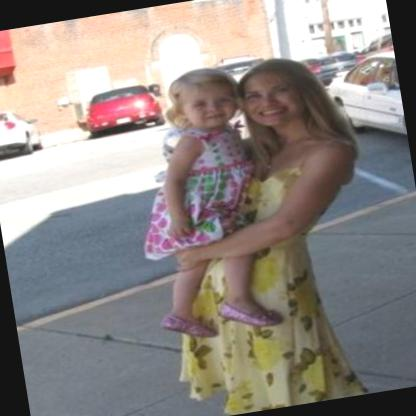car: (312, 49, 409, 166), (78, 75, 167, 134), (294, 46, 370, 86), (0, 107, 46, 157), (343, 30, 394, 60)
